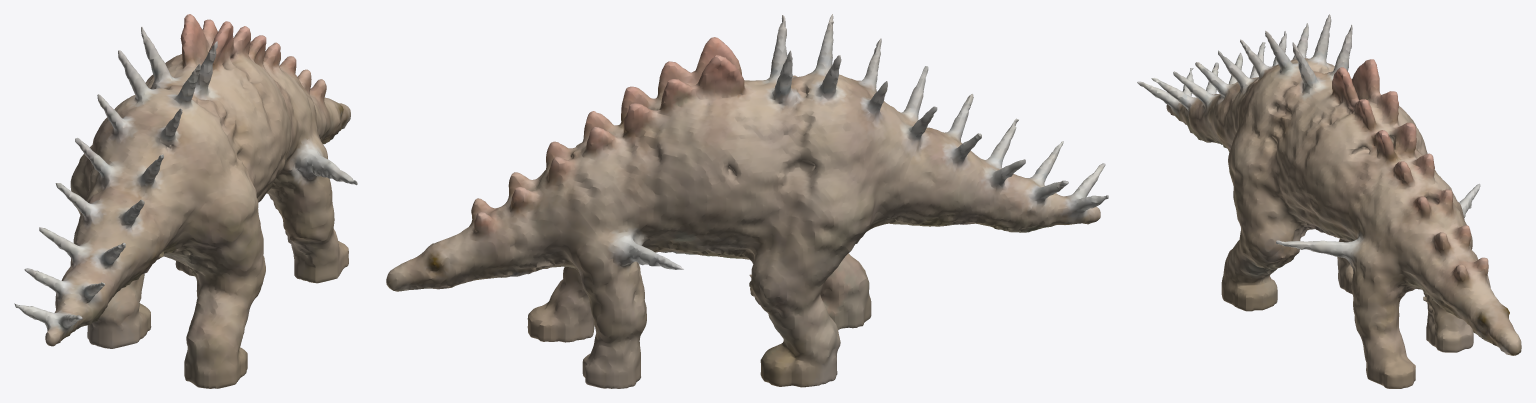
3 views of the same model, side by side, from view 1: azimuth 30°, elevation 25°; view 2: azimuth 150°, elevation 25°; view 3: azimuth 270°, elevation 25° (orthographic). The views are drawn at different scales.
Bounding box in the file's own units: 0.1847 × 0.1049 × 0.1362.
